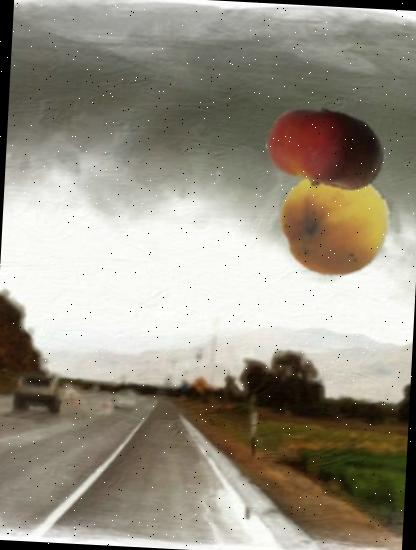Nectarine: (263, 85, 389, 211)
Peach: (278, 163, 395, 280)
